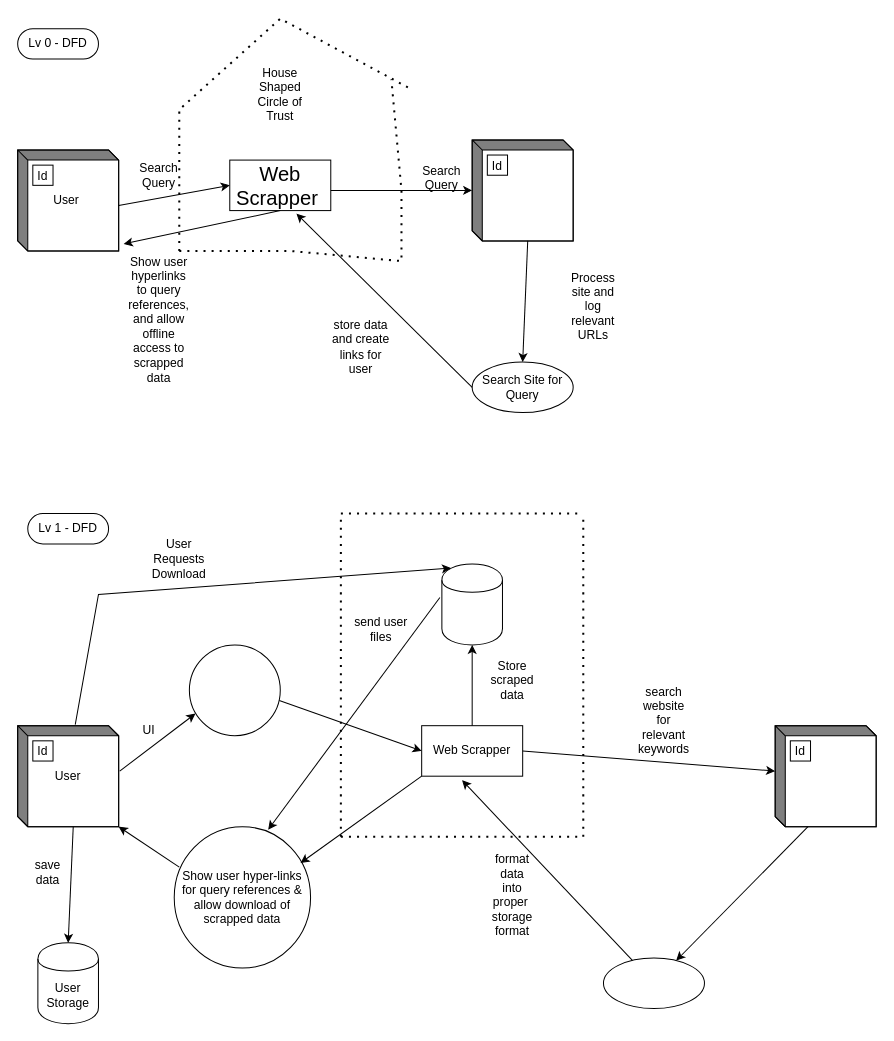
Image size: 894x1041. Some labels were removed from this diagram. Each missing label, with the centre of its shape:
"Data Store" goes at point (471, 604).
"Search for query & log results" goes at point (653, 982).
"Target Web Site" goes at point (522, 190).
"User Input - Search Query" goes at point (234, 690).
"Web Site" goes at point (825, 776).
